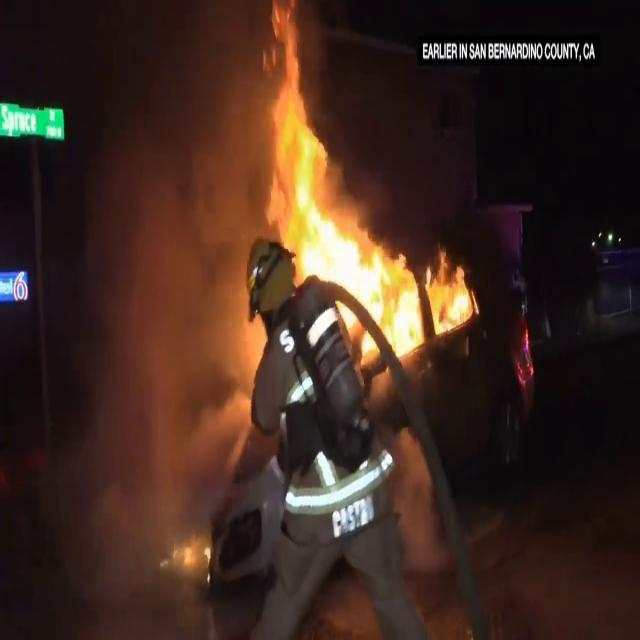Fire: (251, 12, 478, 362)
Smoke: (60, 1, 266, 554)
